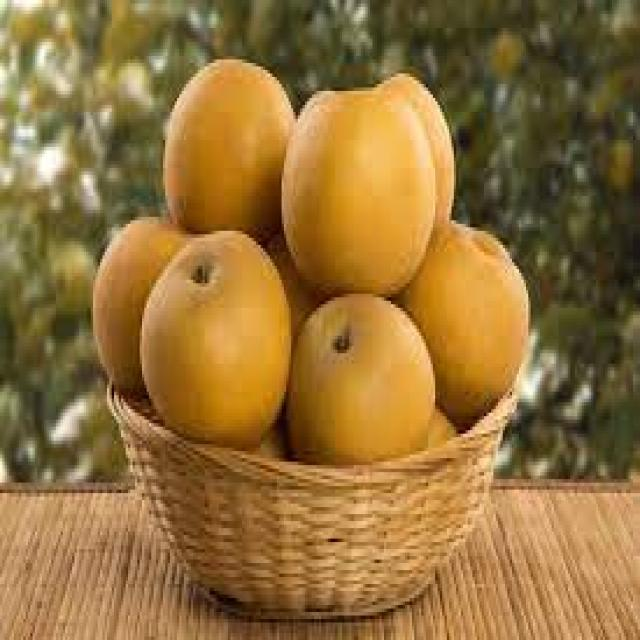pear: (140, 231, 294, 448), (282, 91, 438, 296), (289, 294, 438, 465)
